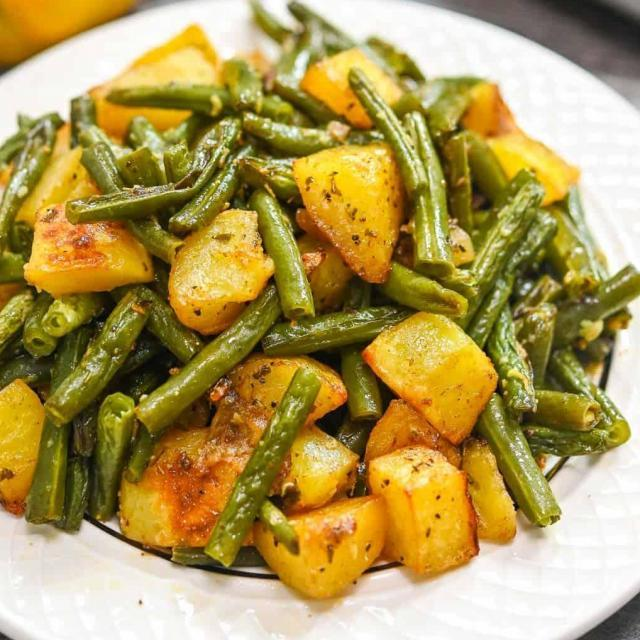Beans: (0, 0, 639, 606)
